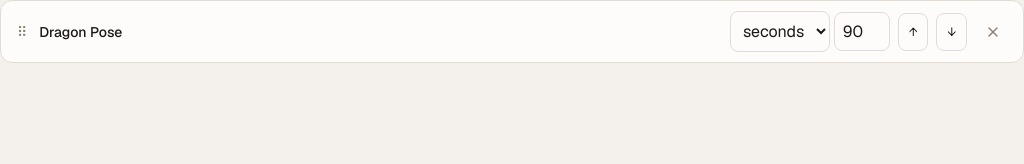
composer inline depth escalation (US8) › tapping the item steps name → cue → full geometry in place
Click the button with test id "compose-item-depth-toggle-0" at (81, 32), box [39,12,722,52]
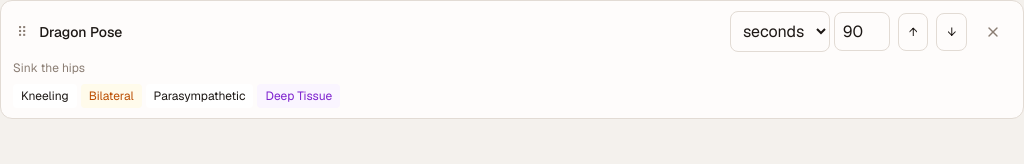
Result: the text with test id "compose-item-cue-0" reads "Sink the hips" at [13,60,85,76]
Result: the element with test id "compose-item-geometry-0" is shown at [13,84,340,108]
Click the button with test id "compose-item-depth-toggle-0" at (81, 32), box [39,12,722,52]
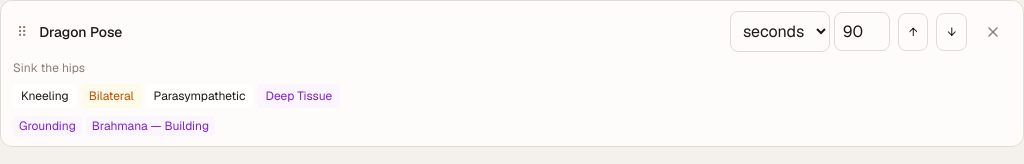
Result: the element with test id "compose-item-energetics-0" is shown at [13,116,215,136]
Click the button with test id "compose-item-depth-toggle-0" at (81, 32), box [39,12,722,52]
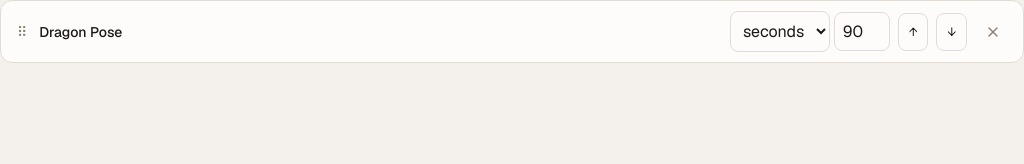
Result: the text with test id "compose-item-cue-0" is gone
